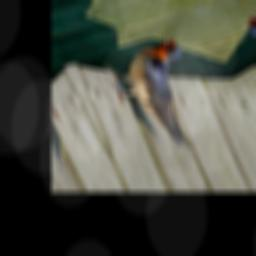Swallow: (96, 32, 221, 158)
